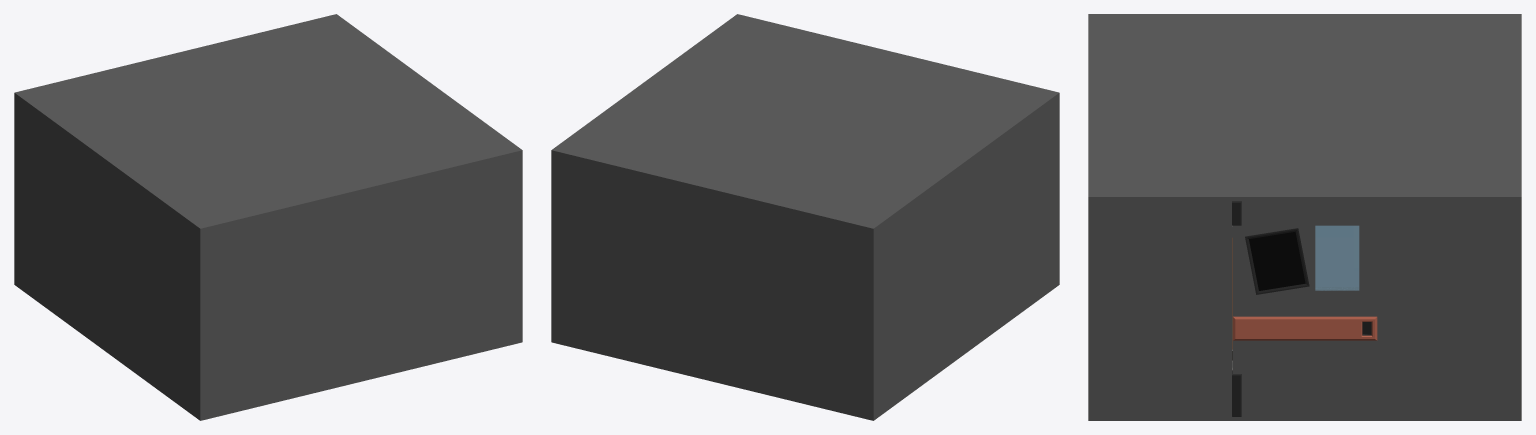
File: Bureau_2.fbx
3 renders of one model, left to right at view 1: azimuth 30°, elevation 25°; view 2: azimuth 150°, elevation 25°; view 3: azimuth 270°, elevation 25°, orthographic. The views are drawn at different scales.
Visible parts, largest first — view 1: Room_Patient_1-019, Room_Patient_1-020; view 2: Room_Patient_1-019, Room_Patient_1-020; view 3: Room_Patient_1-020, Room_Patient_1-019, Door-019, BlackBoard005, Door-018.
Part boxes in pixels (x1,y1,x2,y2): Room_Patient_1-019: (14,96,522,420); Room_Patient_1-020: (14,14,522,231); Room_Patient_1-019: (551,96,1059,420); Room_Patient_1-020: (551,14,1059,231); Room_Patient_1-020: (1088,14,1521,200); Room_Patient_1-019: (1088,201,1521,420); Door-019: (1232,201,1377,416); BlackBoard005: (1245,228,1309,294); Door-018: (1315,225,1359,290).
Size of the model in its own units: 204 by 116 by 203.
